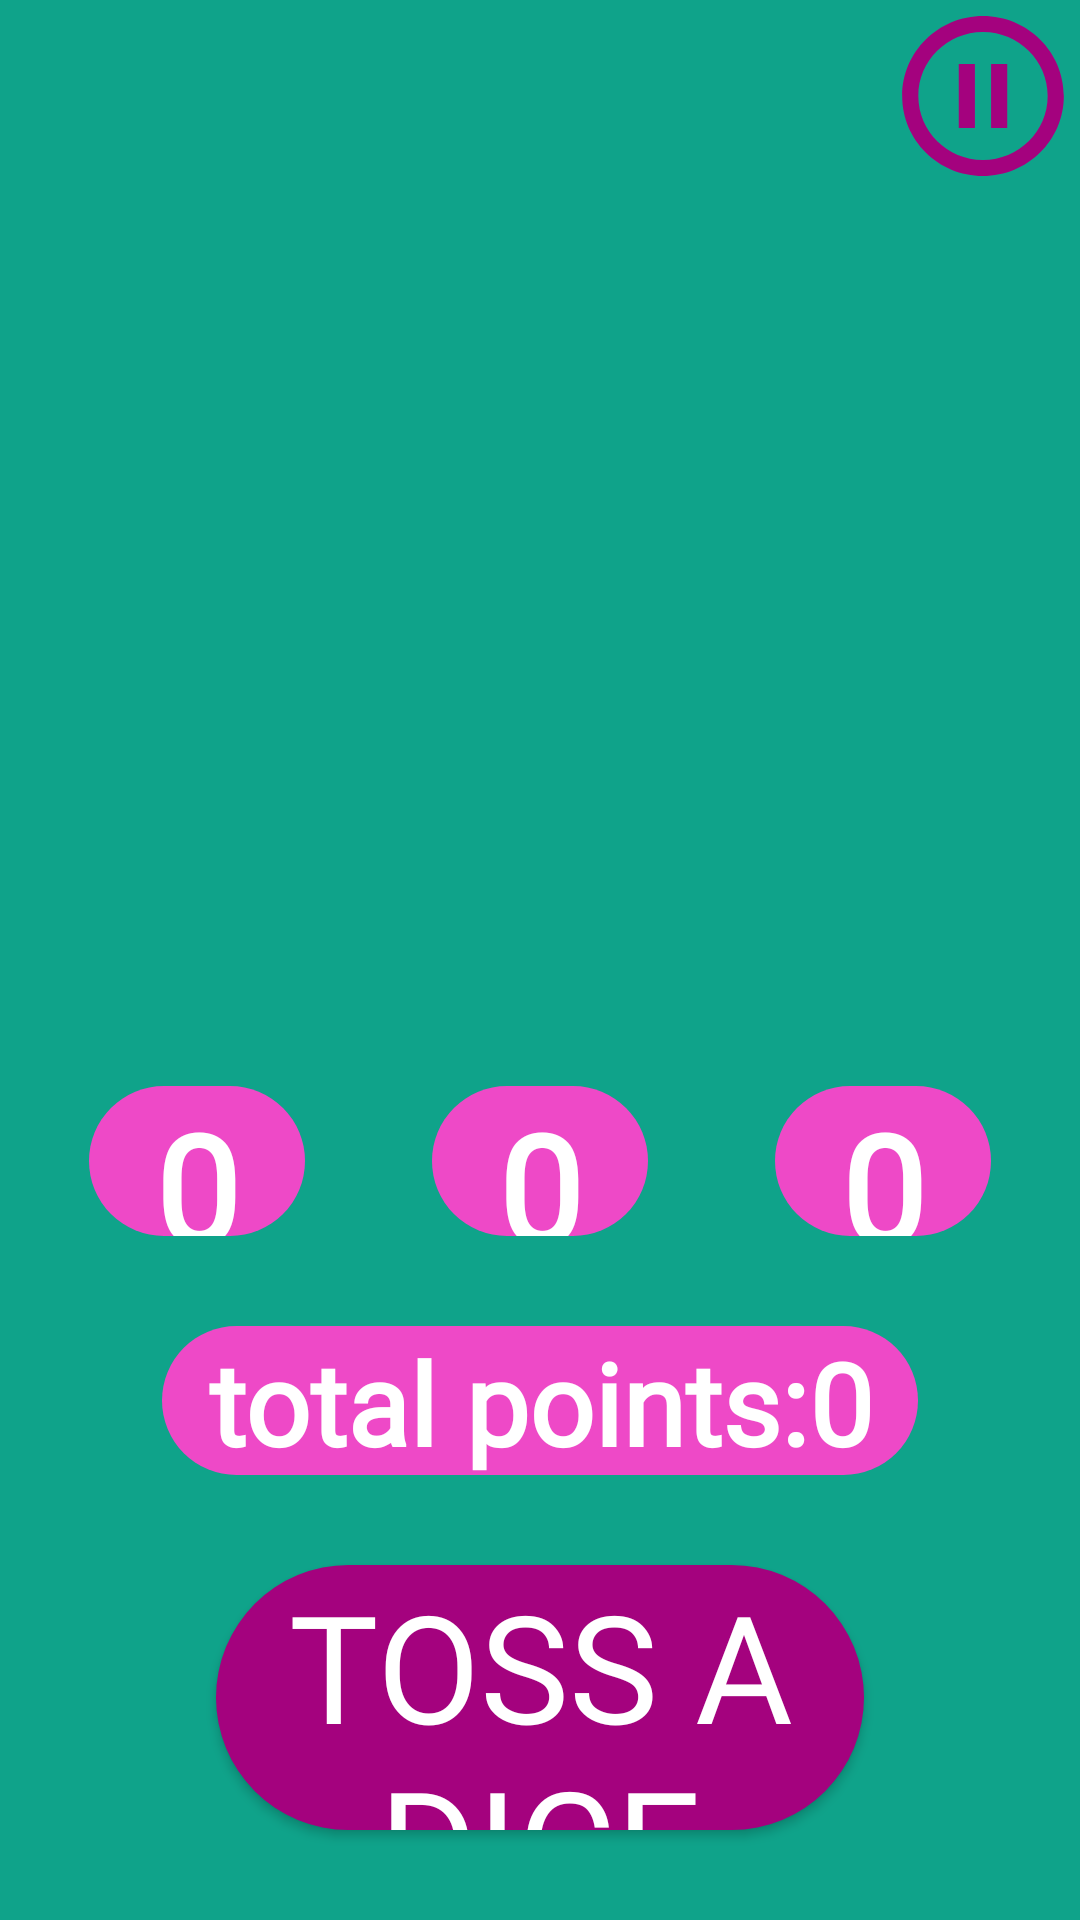

Named icons in this screenshot (1080px x 1920px) and their centers, (x,y):
pause: (983,96)
